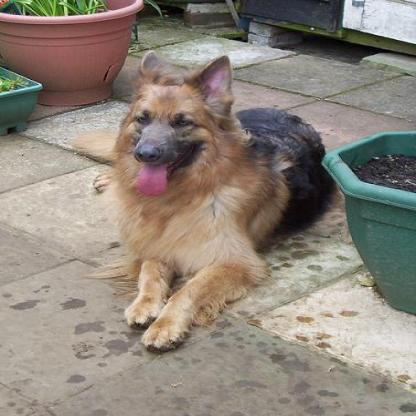dog: (93, 50, 339, 350)
